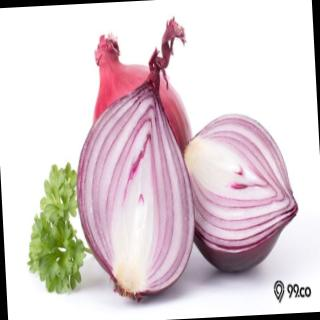Bawang Merah: (68, 21, 202, 306), (182, 110, 303, 277), (23, 161, 95, 297)
